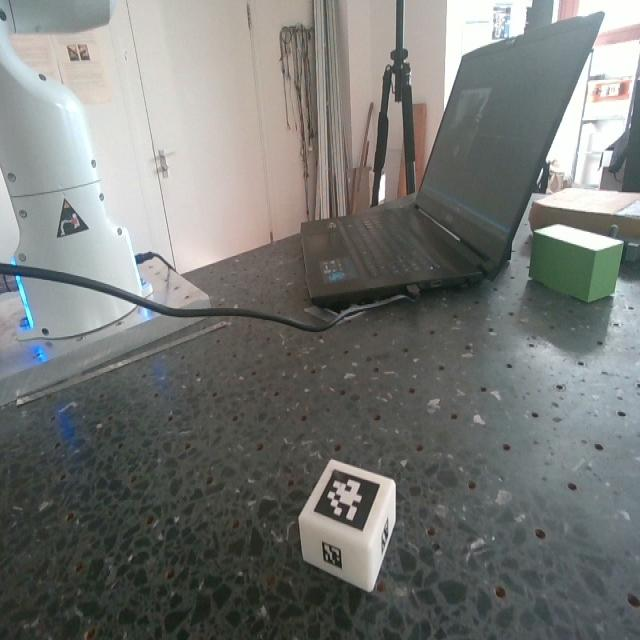Cube: (300, 458, 402, 590)
